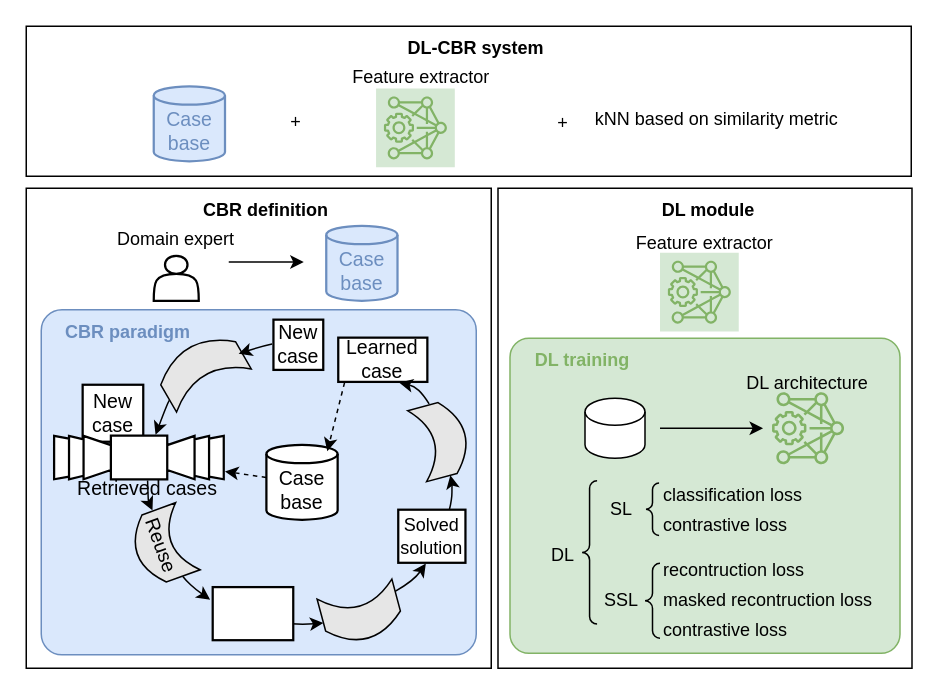
This 939x695 diagram has some shape labels left out. Each missing label, with the box of its shape:
Data: (584, 397, 645, 458)
Proposed solution: (211, 585, 294, 641)
Retain: (406, 396, 474, 482)
Retrieve: (150, 325, 252, 412)
Revise: (315, 578, 405, 648)
